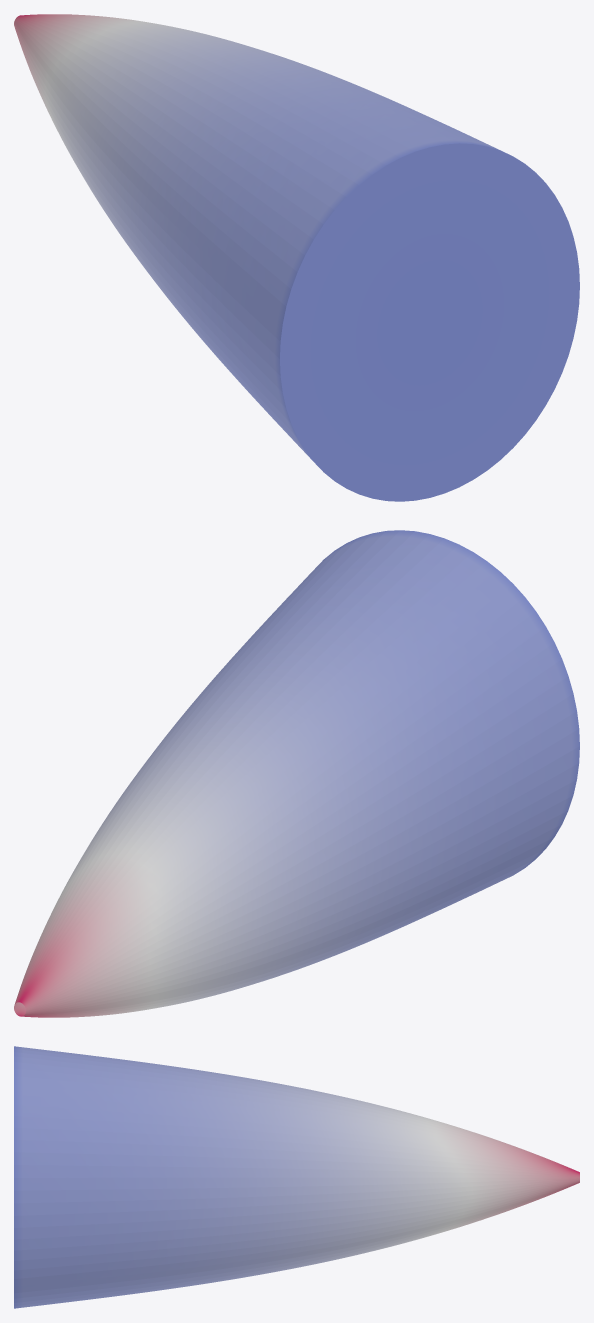
Rendered from frame_010_unlit.glb.
The picture shows the model from 3 angles, top to bottom: view 1: azimuth 30°, elevation 25°; view 2: azimuth 150°, elevation 25°; view 3: azimuth 270°, elevation 25°; orthographic projection. The views are drawn at different scales.
Parts seen in each view (by area): view 1: geometry_0; view 2: geometry_0; view 3: geometry_0.
Boxes of the visible parts, box(x1,y1,x2,y2) form: geometry_0: box(14, 14, 579, 501); geometry_0: box(14, 530, 579, 1017); geometry_0: box(14, 1046, 579, 1308).
Bounding box in the file's own units: 0.4227 × 0.4721 × 1.
